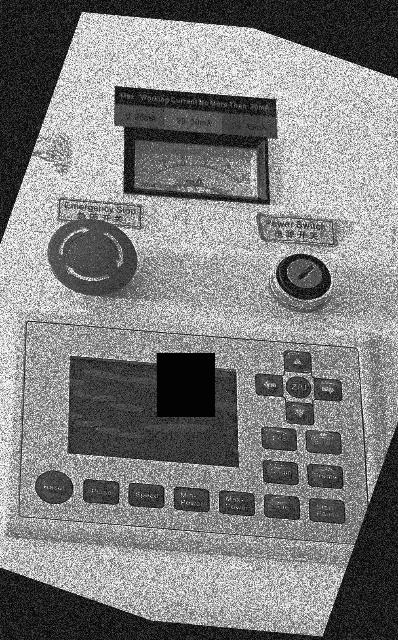Amp_Meter: (135, 140, 261, 198)
Display: (68, 357, 238, 466)
Down_button: (286, 402, 314, 425)
Emergency_Stop: (48, 219, 137, 295)
Enter_button: (306, 431, 341, 454)
Esc_button: (262, 427, 297, 451)
File_button: (264, 494, 300, 520)
Frame_button: (308, 464, 343, 489)
Left_button: (256, 374, 283, 396)
Max-Power_button: (219, 491, 254, 516)
Min-Power_button: (174, 487, 209, 512)
Origin_button: (263, 460, 298, 485)
Power_switch: (270, 253, 332, 311)
Pulse_button: (83, 479, 119, 504)
Reset_button: (35, 471, 73, 504)
Right_button: (314, 379, 342, 401)
Speed_button: (129, 483, 164, 508)
Start-Pause_button: (310, 498, 345, 523)
Up_button: (284, 351, 311, 373)
Z_U_button: (286, 376, 311, 398)
